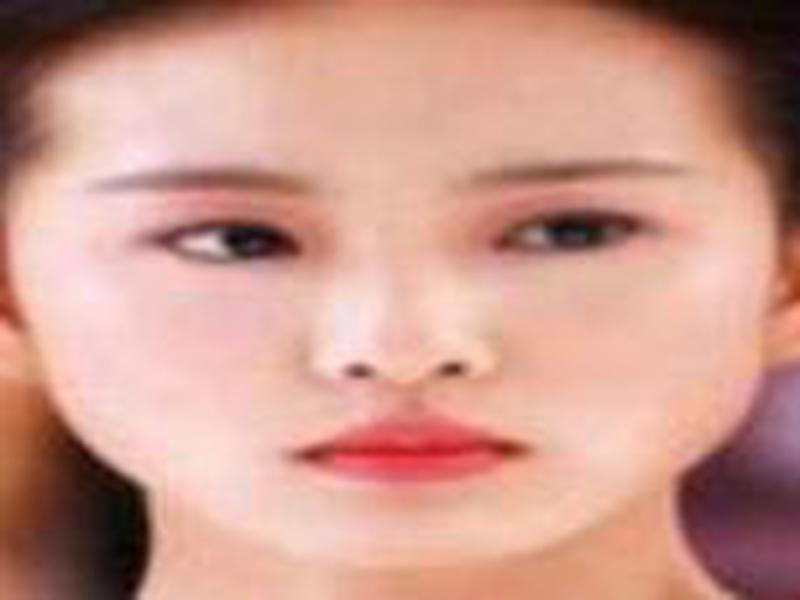without_mask: (21, 59, 766, 572)
